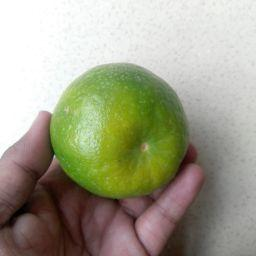Unripe: (50, 61, 190, 197)
